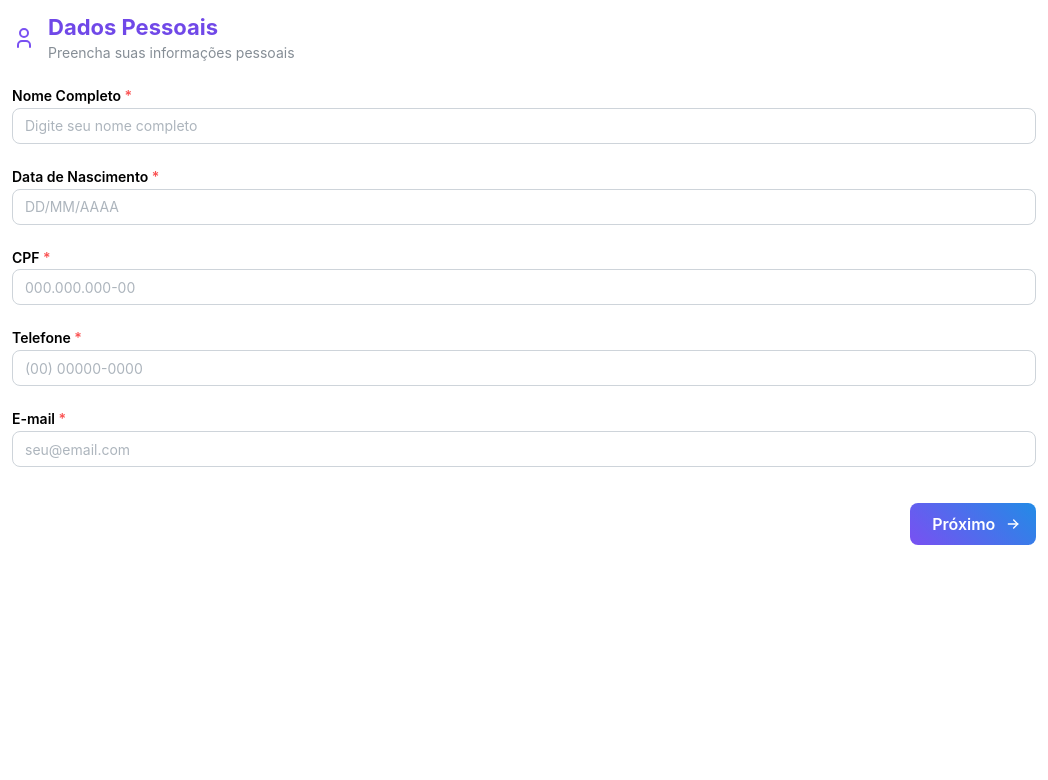
it: Step1PersonalData › mostra erros de validação quando submete vazio
Click the button "Próximo": click(973, 524) [910,503,1036,545]
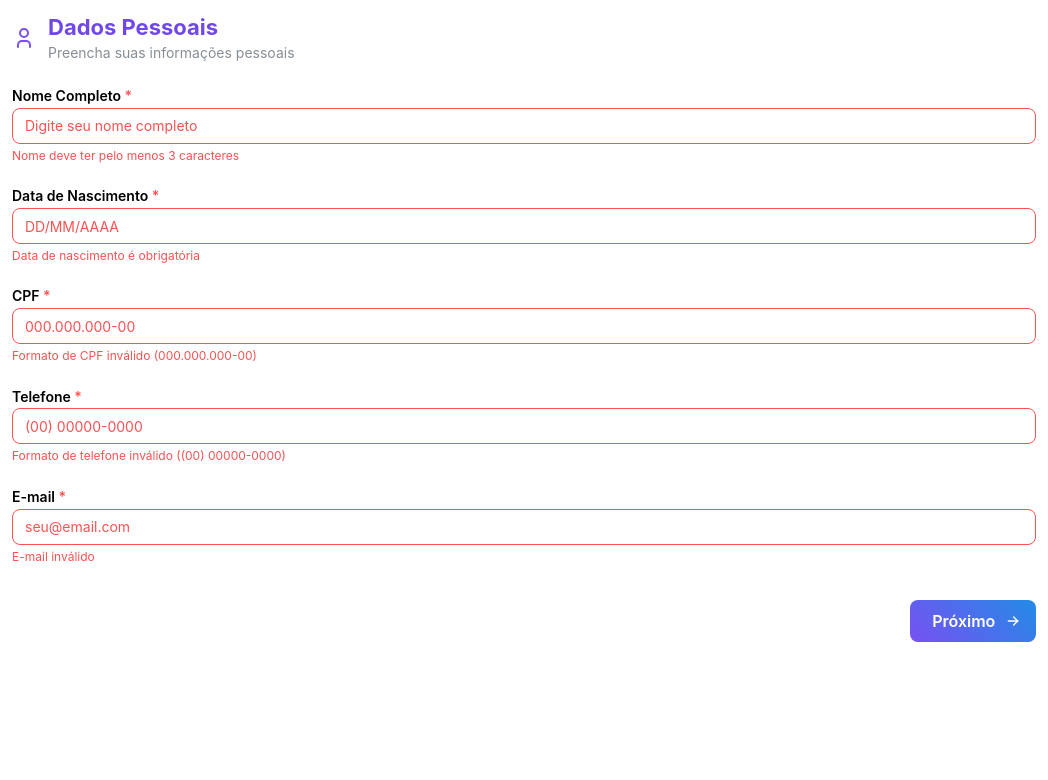
Result: the text "Nome deve ter pelo menos 3 caracteres" is shown at [12,148,239,163]
